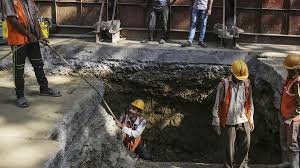arm: (5, 1, 38, 43), (210, 77, 225, 134), (244, 78, 255, 129), (121, 117, 146, 139), (294, 79, 300, 118)
face: (284, 63, 298, 75), (127, 104, 139, 117)
footwear: (37, 86, 61, 96), (13, 95, 30, 109)
glove: (211, 122, 223, 136), (246, 116, 256, 131), (26, 31, 38, 43)
helmet: (229, 56, 249, 78), (281, 50, 299, 68), (128, 96, 144, 110)
human: (0, 0, 60, 109), (210, 55, 255, 166), (274, 48, 299, 154), (116, 94, 151, 164), (183, 0, 216, 46)
leg: (28, 42, 59, 98), (8, 44, 31, 110), (198, 10, 210, 46)
novest: (219, 76, 251, 123), (193, 0, 210, 10)
vest: (3, 0, 36, 45), (278, 72, 300, 117), (121, 113, 146, 148)
